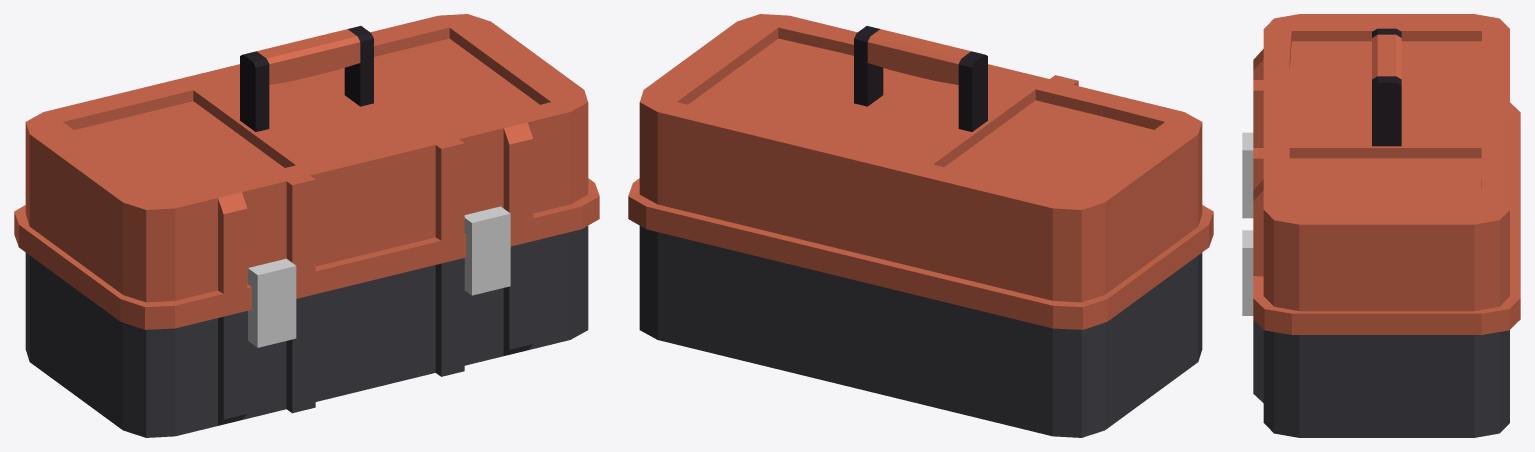
Rendered from Toolbox.fbx.
3 views of the same model, side by side, from view 1: azimuth 30°, elevation 25°; view 2: azimuth 150°, elevation 25°; view 3: azimuth 270°, elevation 25° (orthographic). The views are drawn at different scales.
Parts seen in each view (by area): view 1: Toolbox_base, Bracket, Handle; view 2: Toolbox_base, Handle; view 3: Toolbox_base, Handle, Bracket.
Part boxes in pixels (box(x1,y1,x2,y2)): Toolbox_base: box(14, 14, 599, 437); Bracket: box(248, 206, 510, 347); Handle: box(240, 26, 373, 131); Toolbox_base: box(628, 14, 1213, 437); Handle: box(854, 26, 987, 131); Toolbox_base: box(1253, 14, 1520, 437); Handle: box(1372, 28, 1401, 146); Bracket: box(1242, 132, 1253, 315).
Size of the model in its own units: 0.6898 by 0.4111 by 0.3741.
